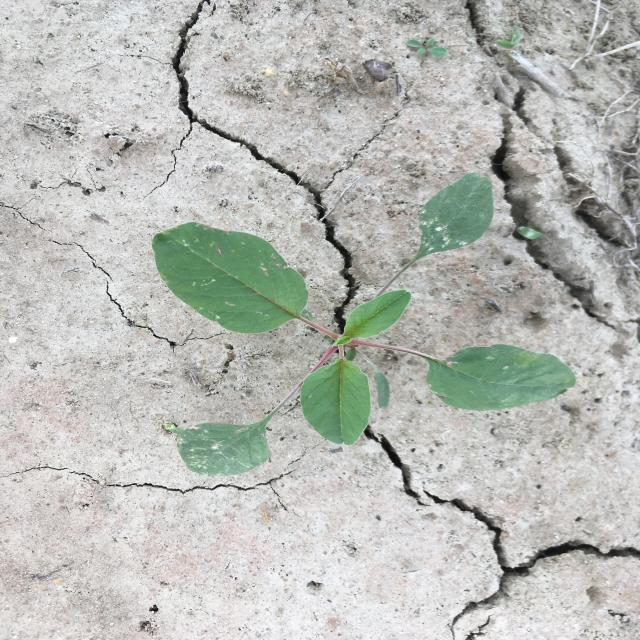PalmerAmaranth: (152, 172, 576, 476)
